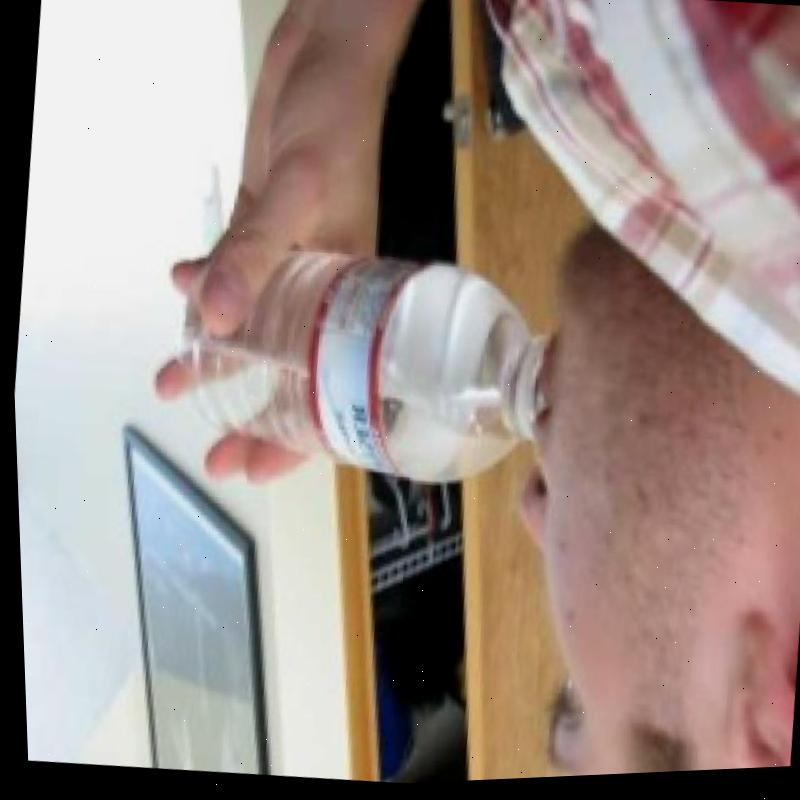botella: (156, 227, 555, 506)
